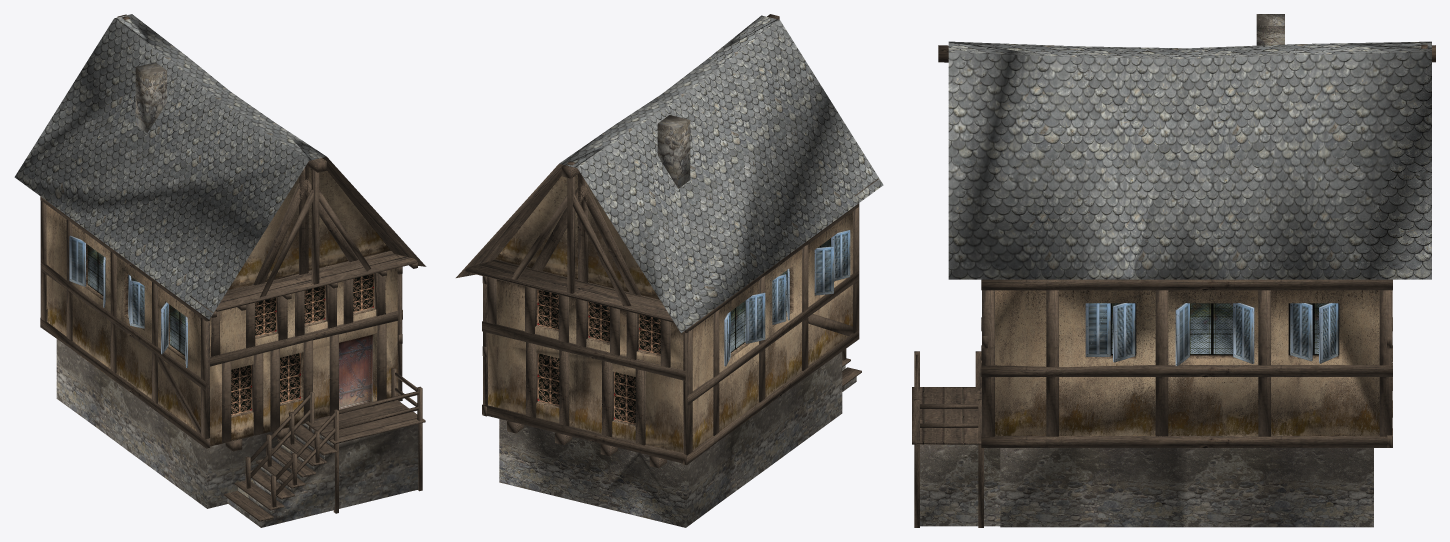
File: house1.dae
3 views of the same model, side by side, from view 1: azimuth 30°, elevation 25°; view 2: azimuth 150°, elevation 25°; view 3: azimuth 270°, elevation 25° (orthographic). The views are drawn at different scales.
Parts seen in each view (by area): view 1: meshU3D; view 2: meshU3D; view 3: meshU3D.
Part boxes in pixels (box(x1,y1,x2,y2)): meshU3D: box(14, 14, 426, 527); meshU3D: box(456, 14, 883, 527); meshU3D: box(912, 14, 1435, 527).
Bounding box in the file's own units: 9.76 × 14.89 × 16.3.
